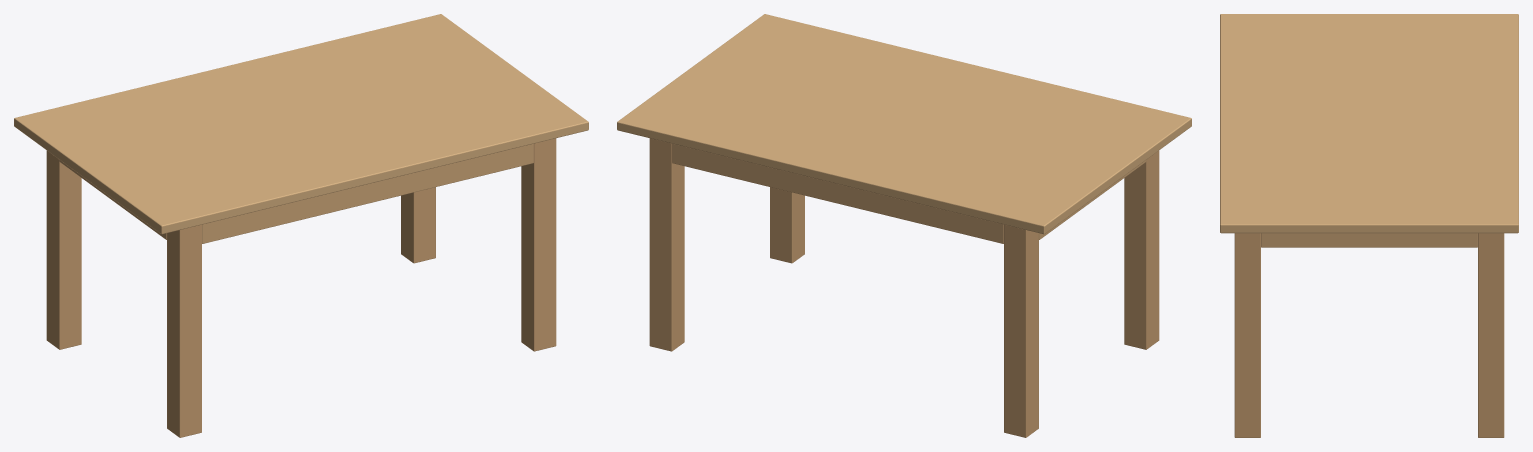
Rendered from Farmhouse_dining_table.glb.
The picture shows the model from 3 angles, left to right: view 1: azimuth 30°, elevation 25°; view 2: azimuth 150°, elevation 25°; view 3: azimuth 270°, elevation 25°; orthographic projection.
Visible parts, largest first — view 1: top, leg.front_left_1, leg.front_left_2, apron.long_1, leg.front_left_3, leg.front_left_4; view 2: top, leg.front_left_3, leg.front_left_4, apron.long_2, leg.front_left_1, leg.front_left_2; view 3: top, leg.front_left_2, leg.front_left_4, apron.short_2.
Boxes of the visible parts, x1,y1,x2,y2 form: top: (14,14,588,234); leg.front_left_1: (167,224,201,437); leg.front_left_2: (521,138,556,351); apron.long_1: (202,143,533,243); leg.front_left_3: (46,150,81,349); leg.front_left_4: (401,187,435,263); top: (617,14,1191,234); leg.front_left_3: (1004,224,1038,437); leg.front_left_4: (649,138,684,351); apron.long_2: (672,143,1003,243); leg.front_left_1: (1124,150,1159,349); leg.front_left_2: (770,187,804,263); top: (1220,14,1518,233); leg.front_left_2: (1234,233,1260,437); leg.front_left_4: (1478,233,1504,437); apron.short_2: (1261,233,1477,247).
Size of the model in its own units: 1.52 by 0.76 by 0.91.
